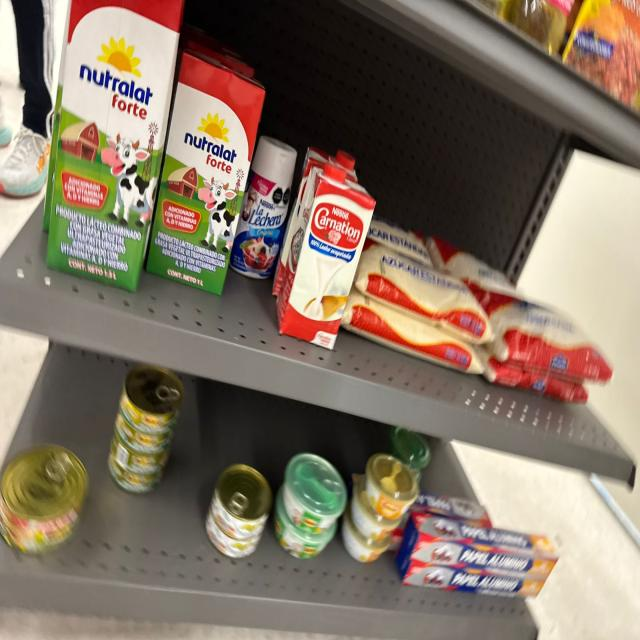ATUN DOLORES EN ACEITE 130GRS: (119, 364, 185, 434), (114, 405, 179, 455), (109, 426, 173, 472), (107, 447, 168, 493)
Aceite Sabrosano 850ml: (494, 0, 574, 55)
Arroz La Posada 900 gr: (467, 286, 612, 383), (470, 344, 587, 403), (426, 237, 514, 293)
Atun Dolores aceite 295gr lata: (0, 445, 88, 553)
Atun Mazatun Agua Sin Soya 130grs: (210, 464, 273, 538), (205, 502, 265, 558)
Azucar Estandar La Posada 1 kg: (354, 244, 490, 343), (341, 292, 480, 374), (365, 217, 432, 266)
CARNATION Leche Evaporada 720g: (276, 162, 375, 349), (272, 148, 358, 297)
DOLORES ENSALADA CON VERDURAS MAXI CUP CAN 240gr: (282, 453, 348, 535), (273, 485, 337, 559)
Dolores SURFY Cup Can Elotitos 24135 gr: (349, 474, 407, 546), (364, 453, 418, 519), (341, 510, 390, 562)
Ensalada Atun Mazatun CupCan: (390, 427, 430, 485)
Frijol La Sierra Chorizo 430 bolsa: (562, 0, 640, 114)
La Lechera Sirve Facil 335gr Bote: (230, 136, 296, 278)
PLC NUTRALAT FORTE 1 LT: (146, 50, 265, 294)
PLC NUTRALAT FORTE 1.5 LT: (44, 0, 181, 290)
Papel aluminio festivo rollo 76 m X 30 cm pz: (402, 512, 560, 580), (394, 542, 546, 598), (411, 492, 491, 526)
